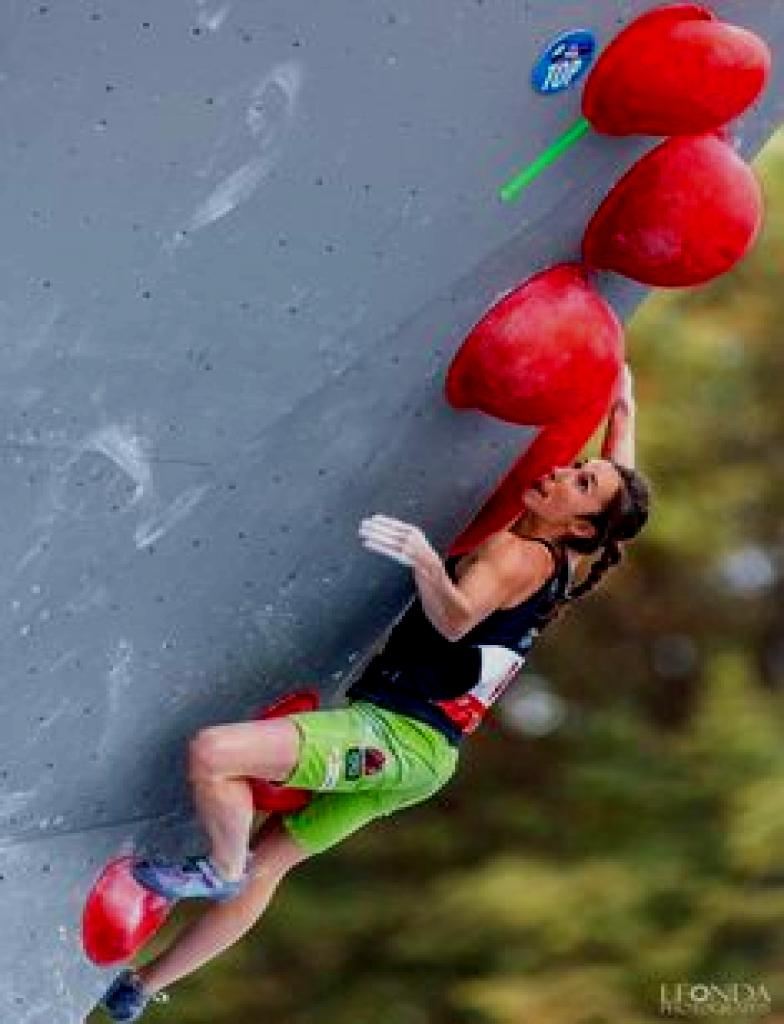sloper: (448, 263, 618, 422), (585, 139, 754, 283), (581, 3, 767, 133), (86, 856, 169, 960)
